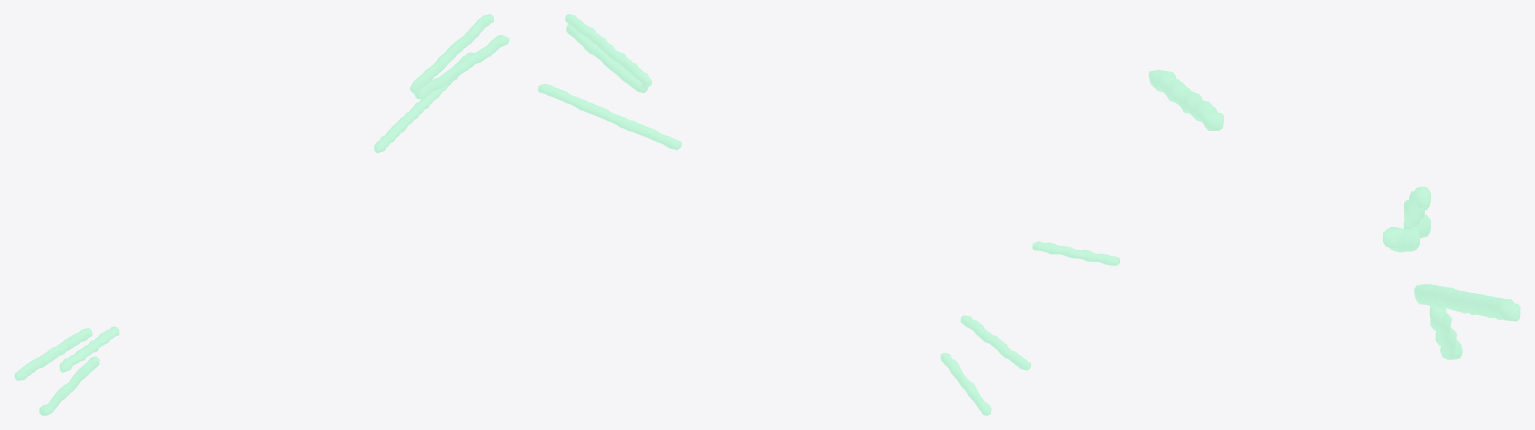
File: cassiopeia_newjets.glb
3 views of the same model, side by side, from view 1: azimuth 30°, elevation 25°; view 2: azimuth 150°, elevation 25°; view 3: azimuth 270°, elevation 25° (orthographic). The views are drawn at different scales.
Visible parts, largest first — view 1: Newjets.002_baked; view 2: Newjets.002_baked; view 3: Newjets.002_baked.
Boxes of the visible parts, <box> form: Newjets.002_baked: <box>14,14,509,415</box>; Newjets.002_baked: <box>538,14,1119,415</box>; Newjets.002_baked: <box>1148,69,1520,360</box>.
Bounding box in the file's own units: 120 × 67.68 × 39.25.
1 material, 1 textured.
